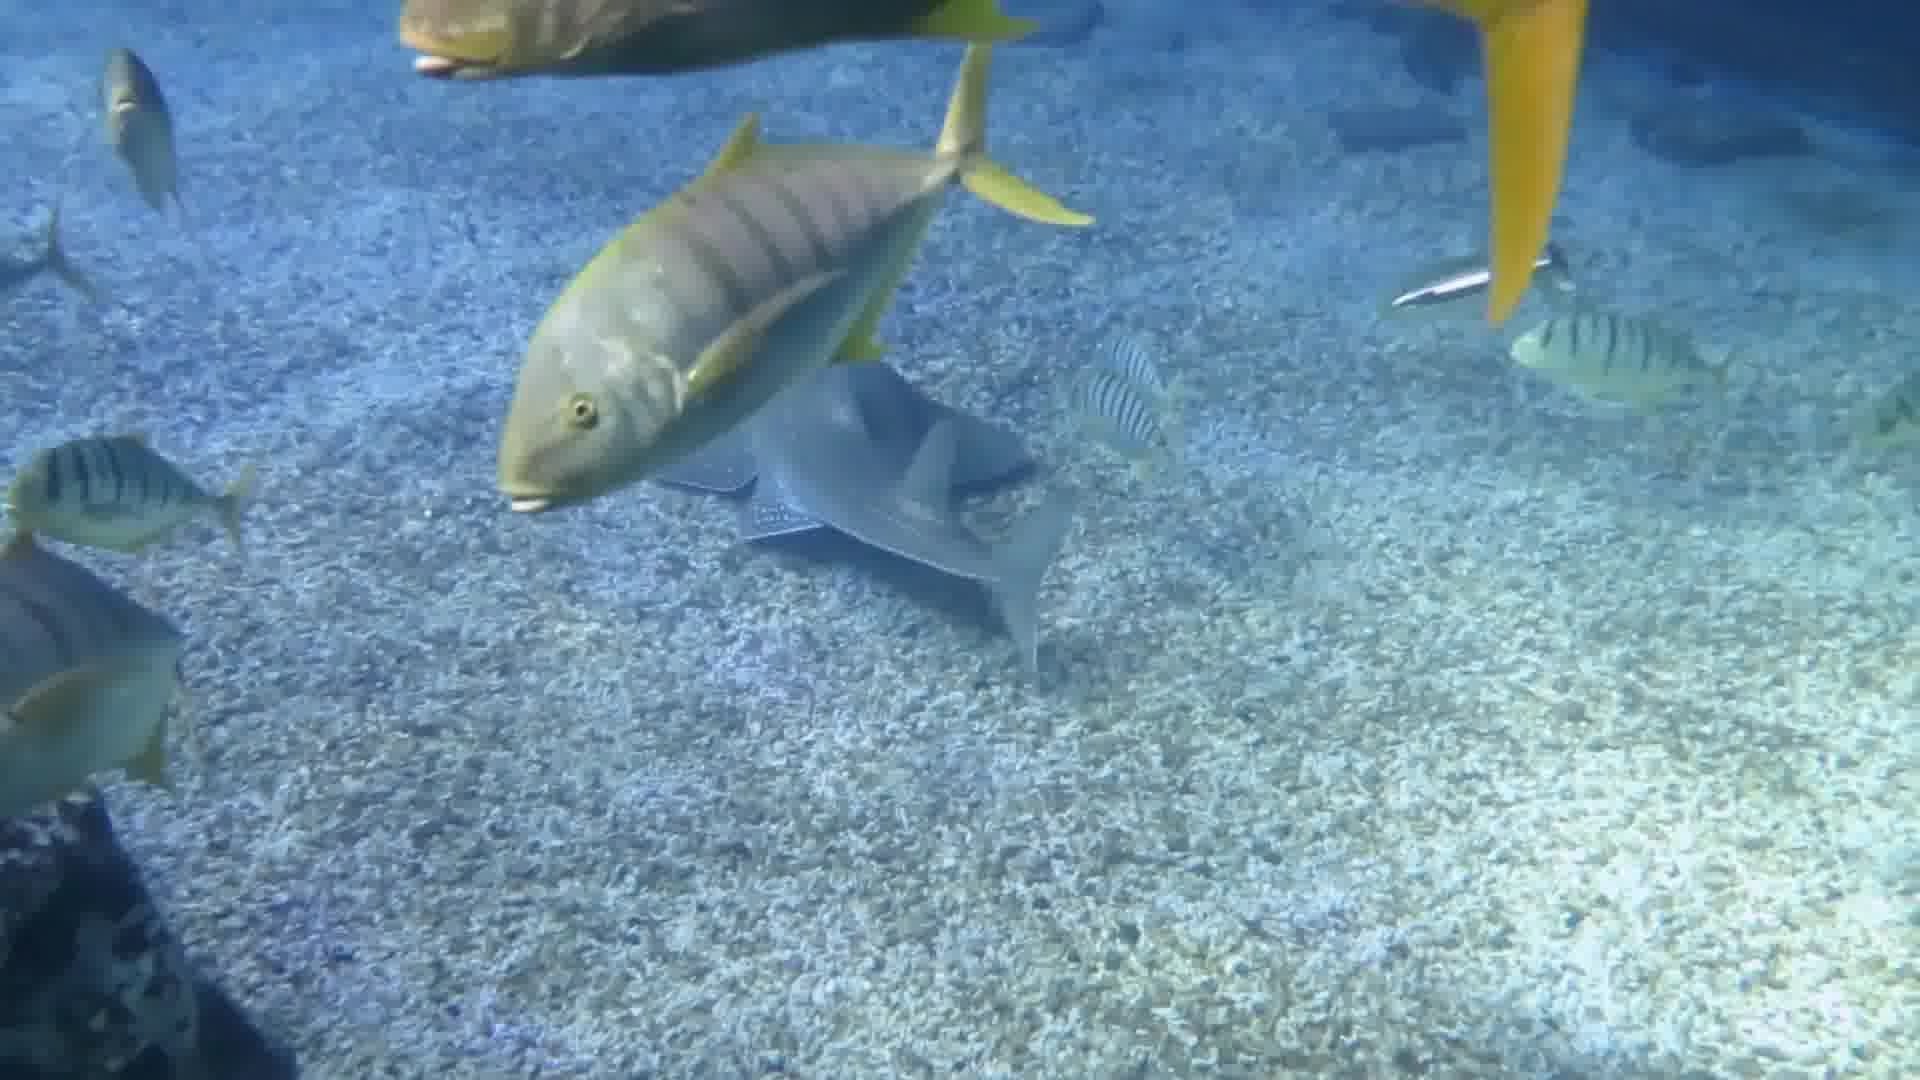Rhychobatus djiddensis: (774, 371, 1102, 649)
